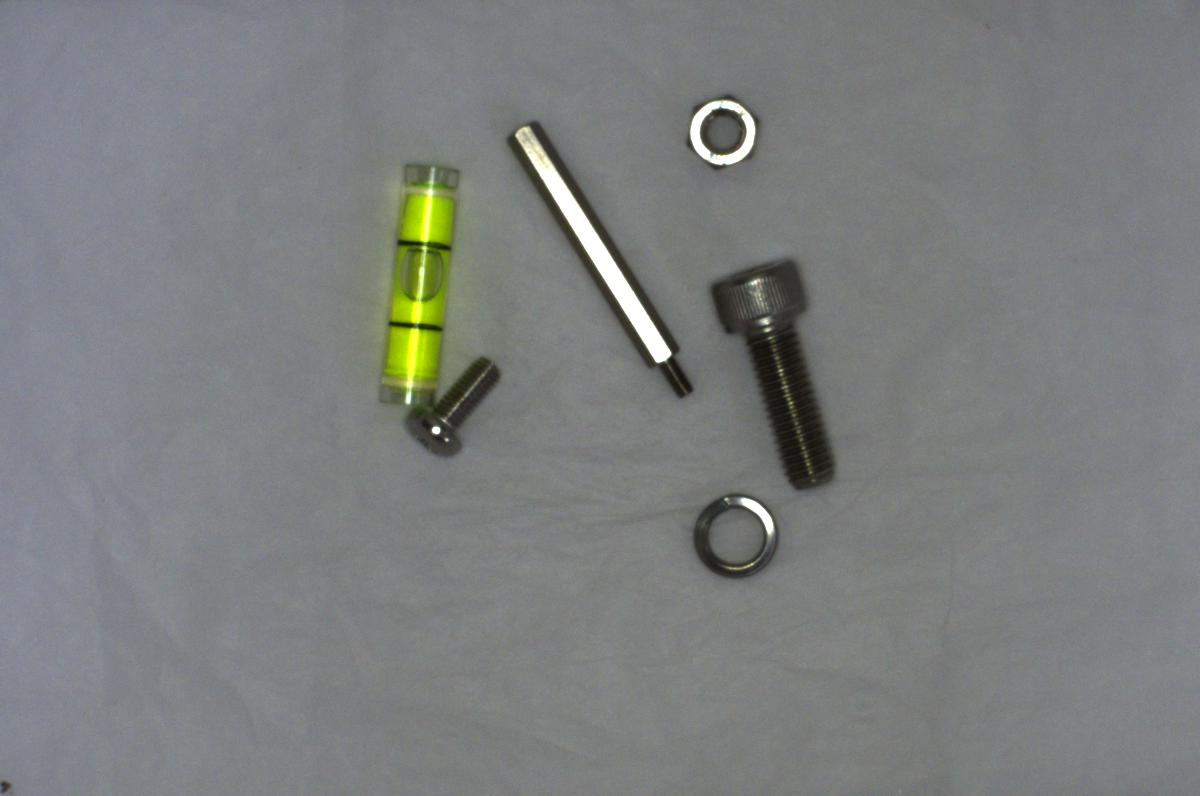Hexagon nut: (679, 86, 757, 177)
Hexagon screw: (705, 239, 847, 494)
Hexagonal steel column: (500, 115, 703, 405)
Horizontal bubble: (367, 155, 457, 412)
Round head screw: (401, 351, 511, 460)
Spring washer: (675, 481, 794, 589)
